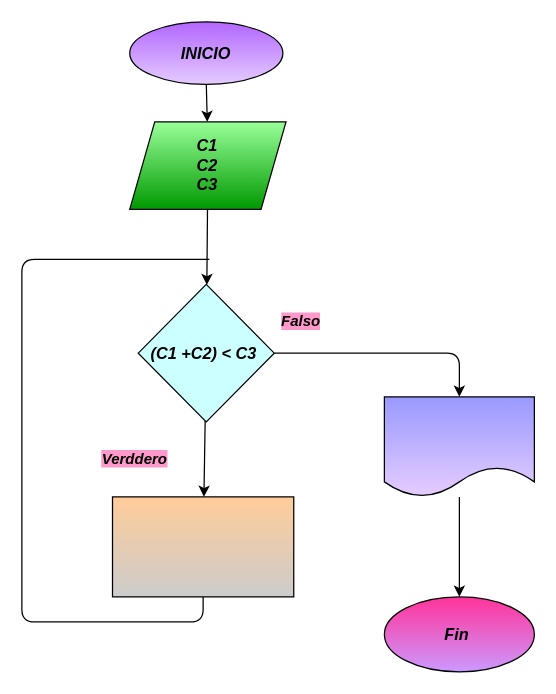
The diagram is 556 pixels wide and 694 high, and some of its shapes have lost their labels. The shapes that lost their labels are listed below. From the top down, each one's box as (x1, y1, x2, y2) in pixels, then its label:
(383, 396, 534, 497): Meses
(111, 496, 294, 597): C1 = C1 + (C1*0.3 %) C2 = C2 + (C2 * 0.4%) Meses = Meses +1
